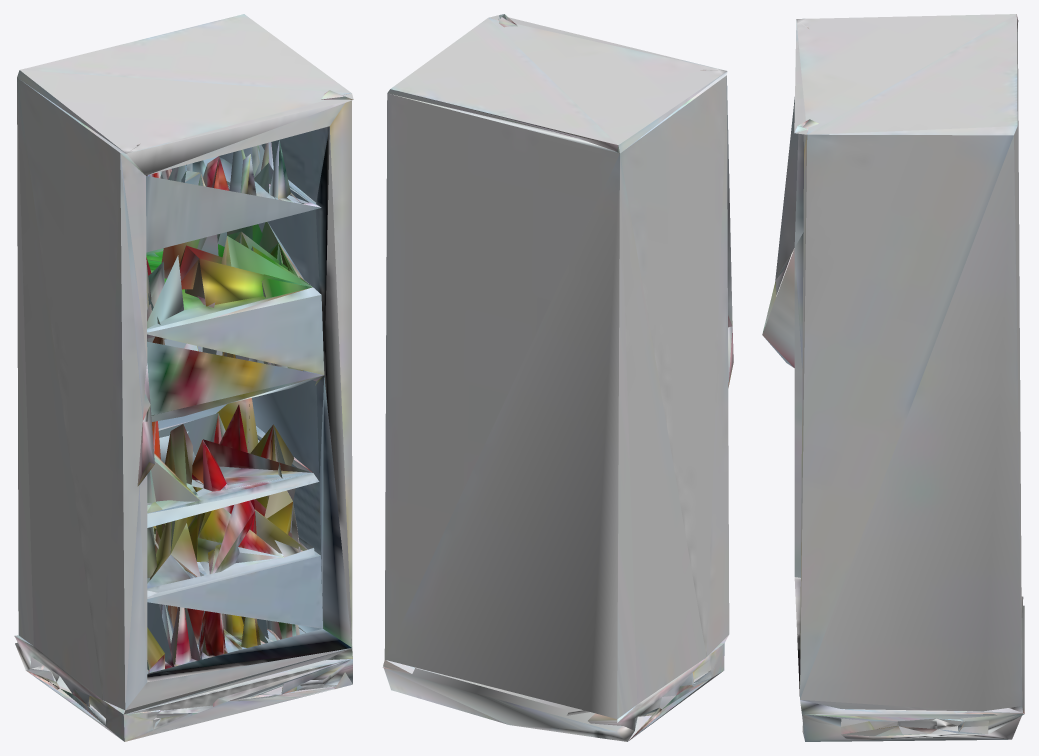
The model's file is fv_fridge.glb.
3 renders of one model, left to right at view 1: azimuth 30°, elevation 25°; view 2: azimuth 150°, elevation 25°; view 3: azimuth 270°, elevation 25°, orthographic. The views are drawn at different scales.
Parts seen in each view (by area): view 1: fv_fridge; view 2: fv_fridge; view 3: fv_fridge.
Boxes of the visible parts, left/top/right/bottom form: fv_fridge: left=14, top=14, right=353, bottom=741; fv_fridge: left=382, top=14, right=733, bottom=741; fv_fridge: left=762, top=14, right=1024, bottom=741.
Bounding box in the file's own units: 0.8068 × 2 × 0.7627.
Materials: 1 (1 with a texture image).
